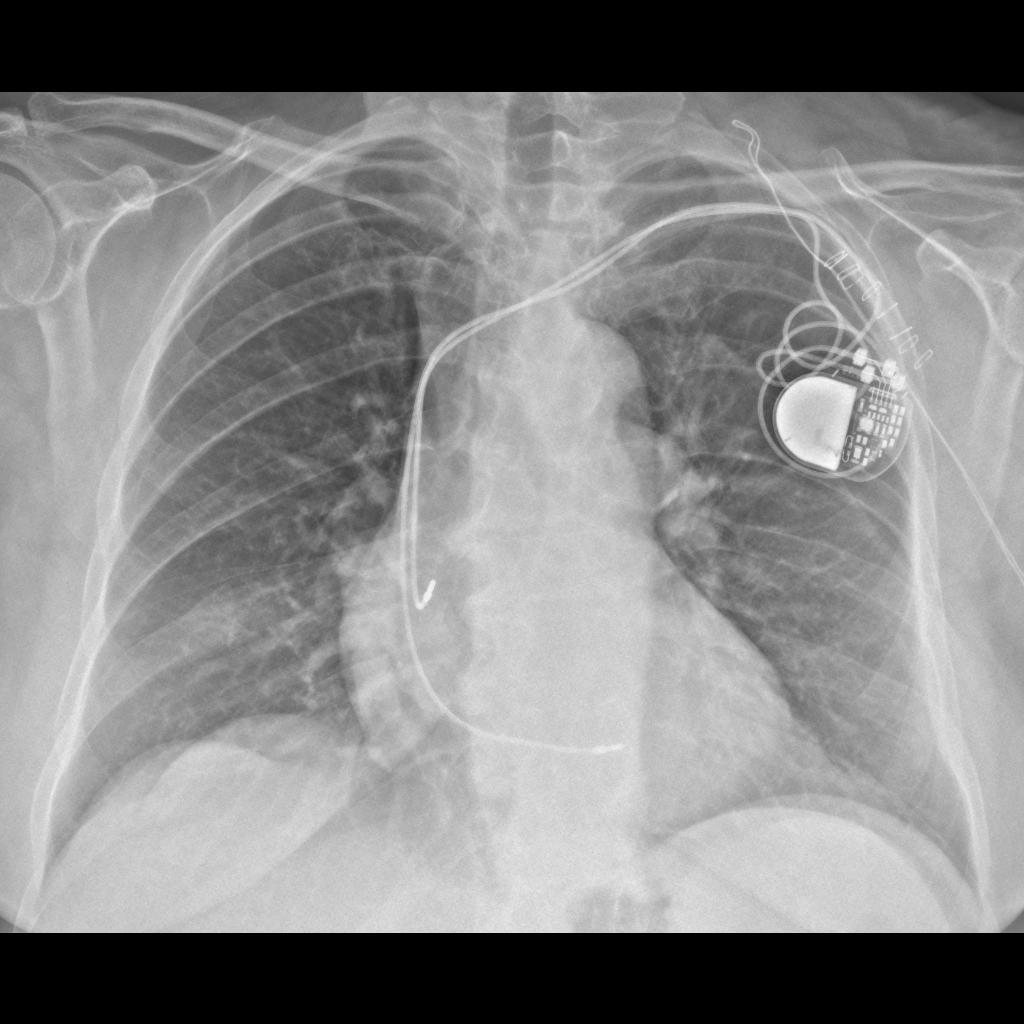Nodule: (171, 569, 260, 672)
